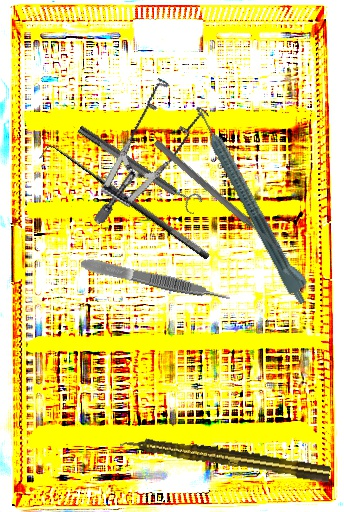Fixation Ring: (73, 118, 205, 217)
Handpiece: (193, 103, 318, 308), (118, 431, 332, 485)
Hook Surgical: (38, 137, 213, 273)
Pusher: (152, 138, 285, 256)
Speculum: (53, 65, 231, 226)
Tissue Forceps: (79, 254, 232, 308)
